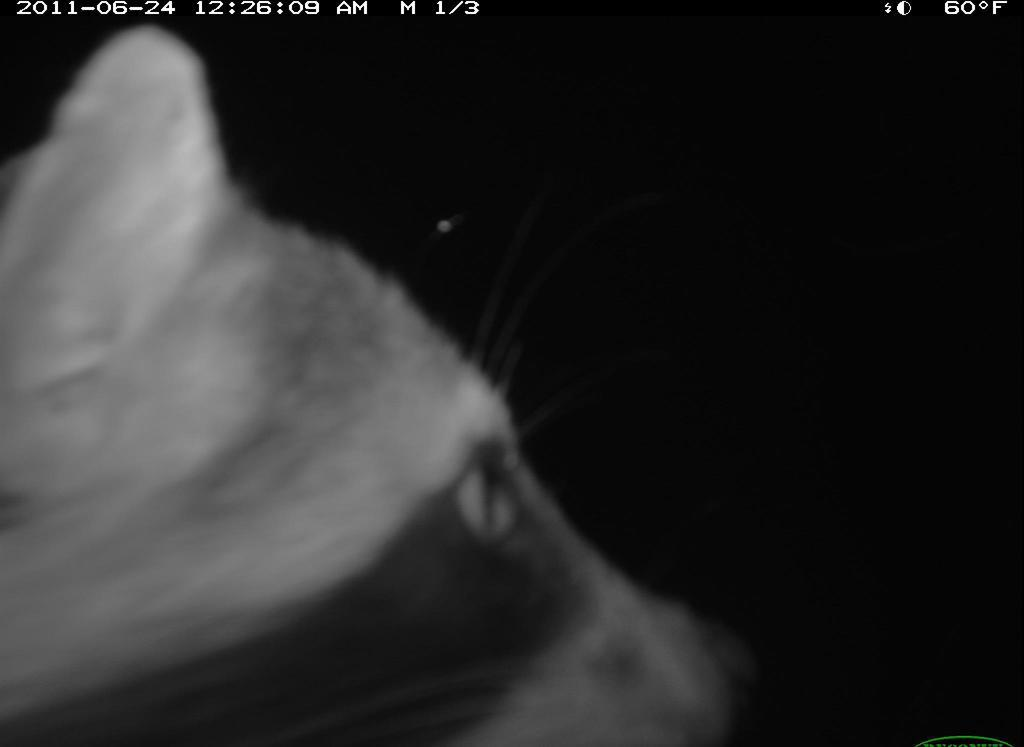raccoon: (1, 20, 775, 747)
